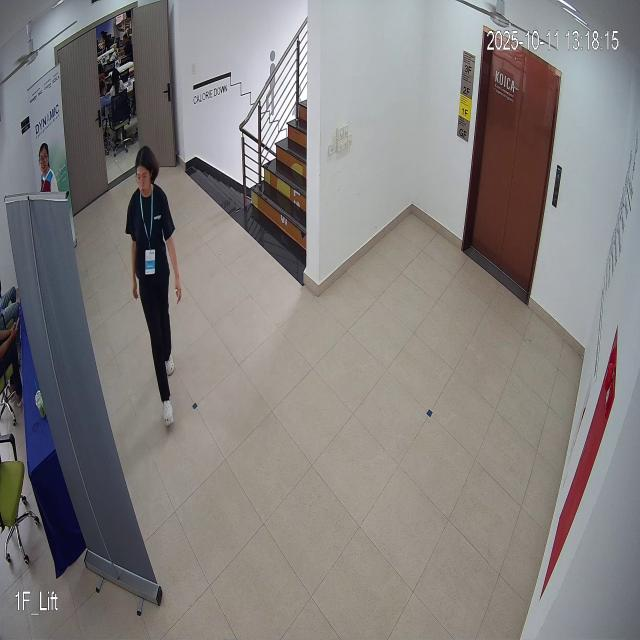face: (131, 142, 160, 204)
